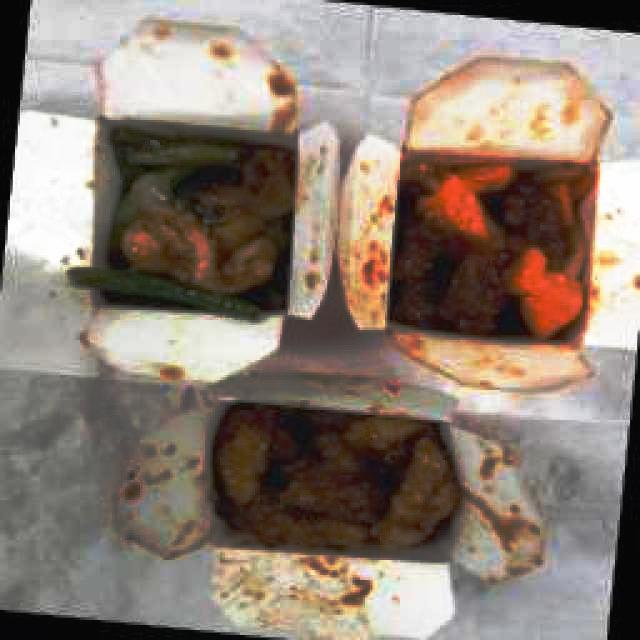Beijing Beef: (398, 158, 599, 337)
Kung Pao Chicken: (207, 400, 465, 553)
String Bean Chicken Breast: (67, 128, 294, 320)
